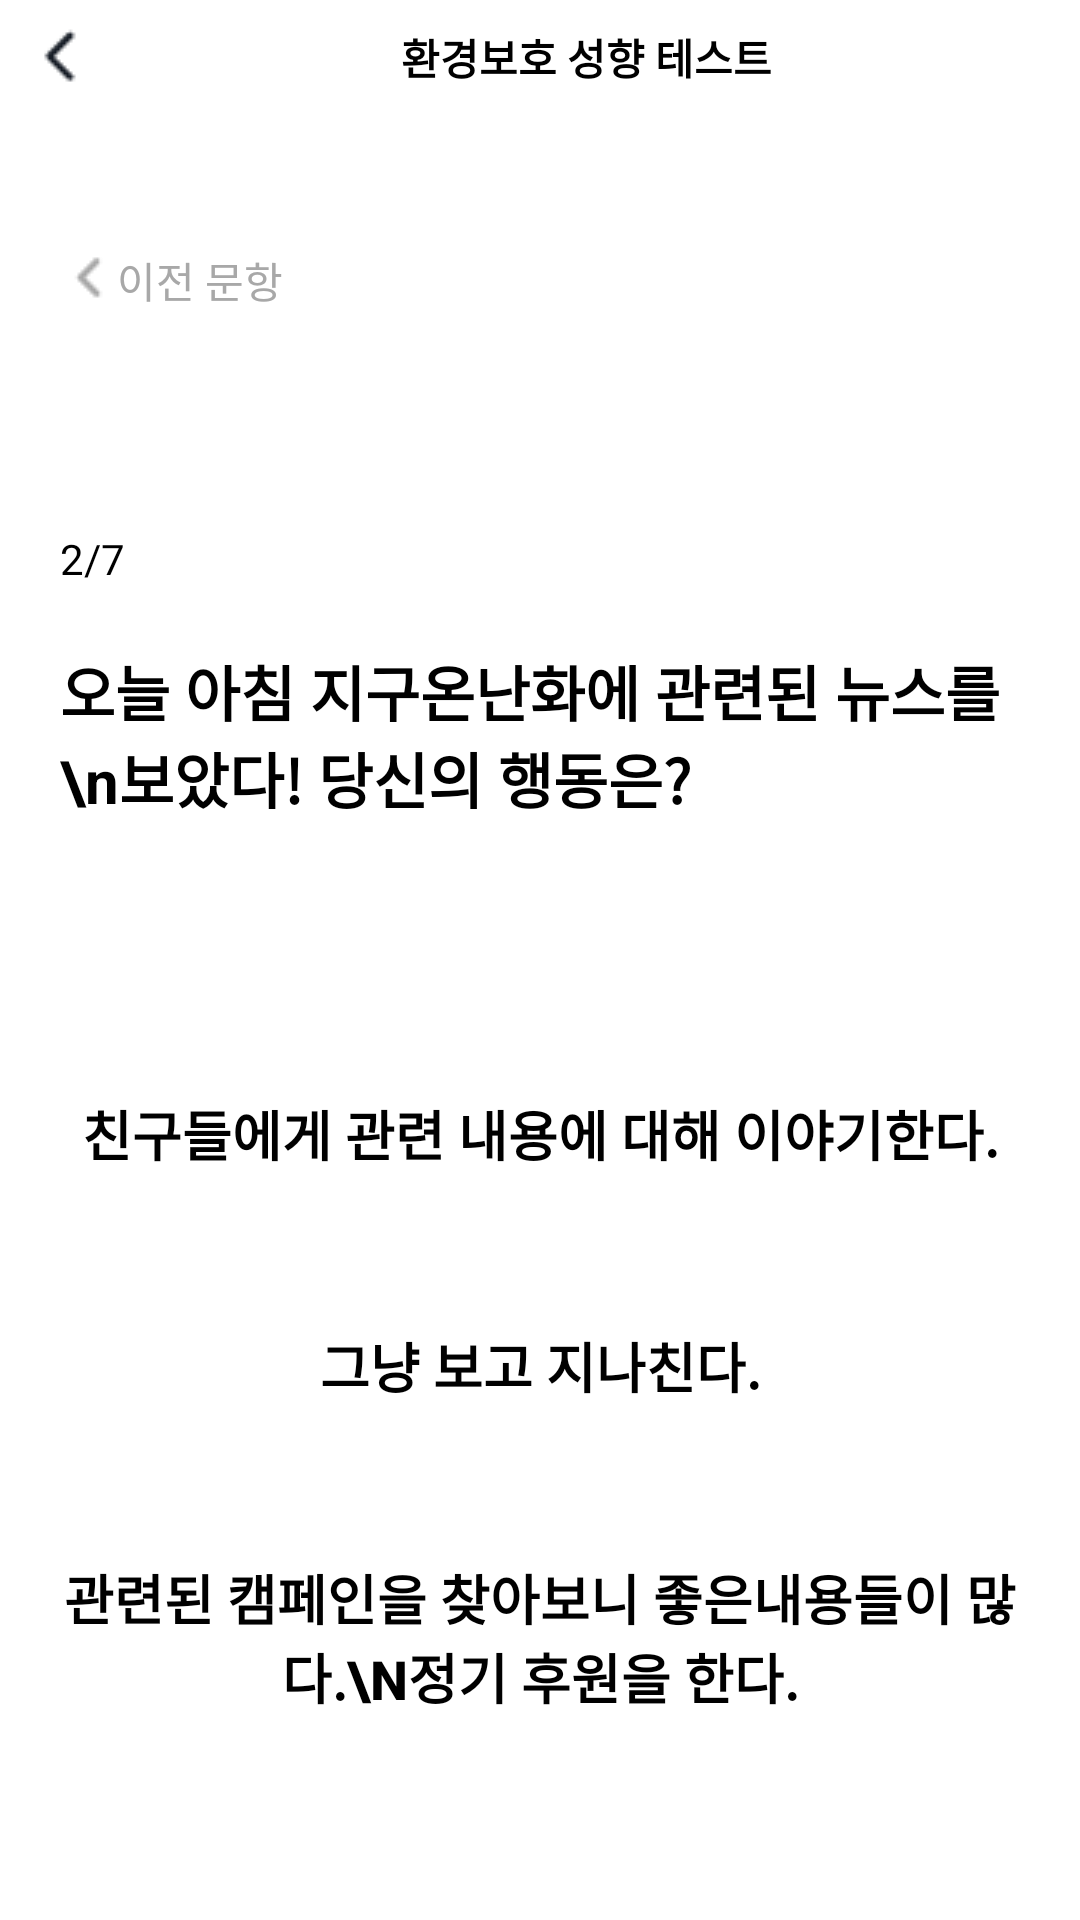

Point at icon controls on the screen. Image size 1080*1920, points as (x=x, y=y).
backicon: (x=60, y=56)
greybackicon: (x=88, y=277)
